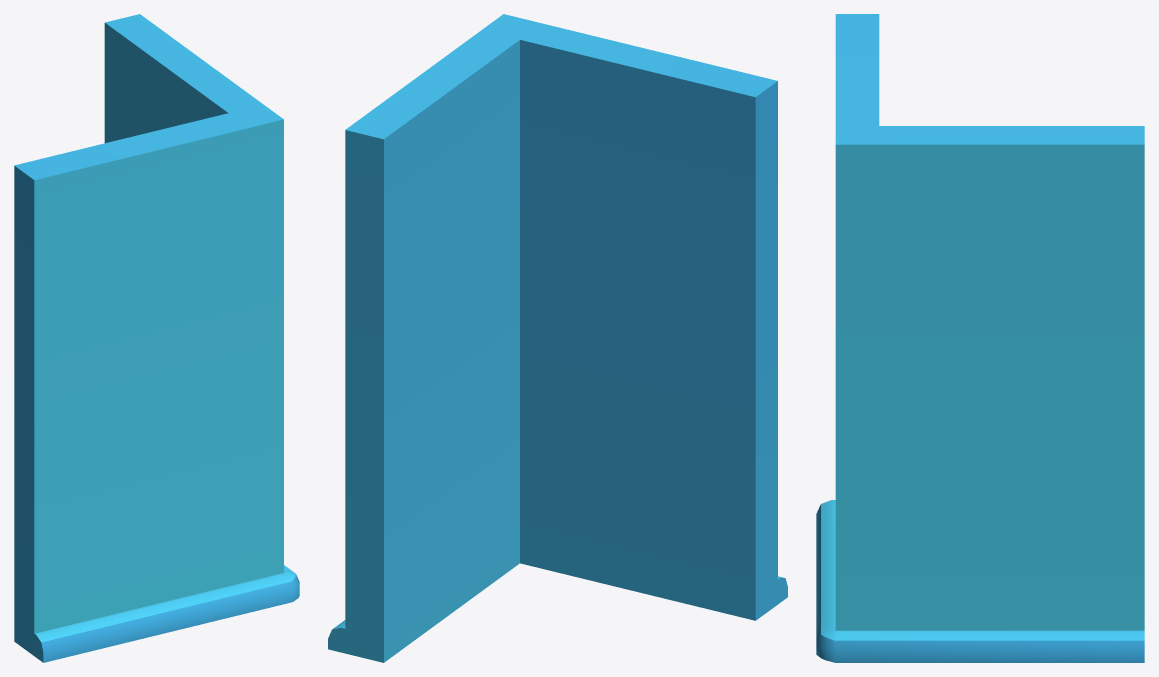
Rendered from Wall006.fbx.
3 views of the same model, side by side, from view 1: azimuth 30°, elevation 25°; view 2: azimuth 150°, elevation 25°; view 3: azimuth 270°, elevation 25° (orthographic). The views are drawn at different scales.
Parts seen in each view (by area): view 1: Cube.023; view 2: Cube.023; view 3: Cube.023.
Boxes of the visible parts, box(x1,y1,x2,y2) form: Cube.023: box(14, 14, 299, 662); Cube.023: box(328, 14, 787, 662); Cube.023: box(816, 14, 1144, 662).
Bounding box in the file's own units: 146 × 250 × 146.
